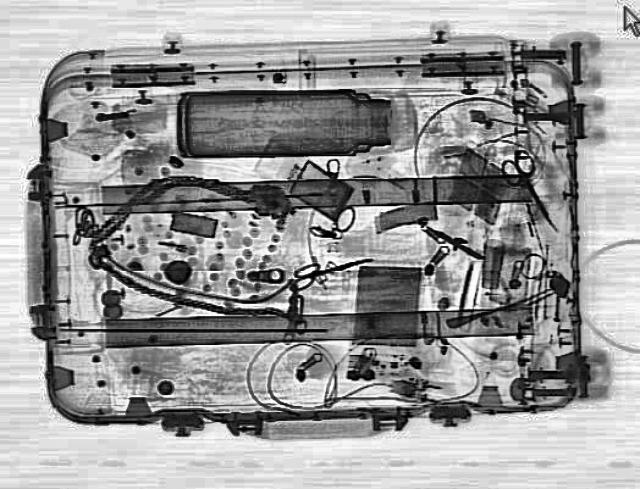Scissors: (491, 146, 572, 236), (282, 247, 378, 291)
